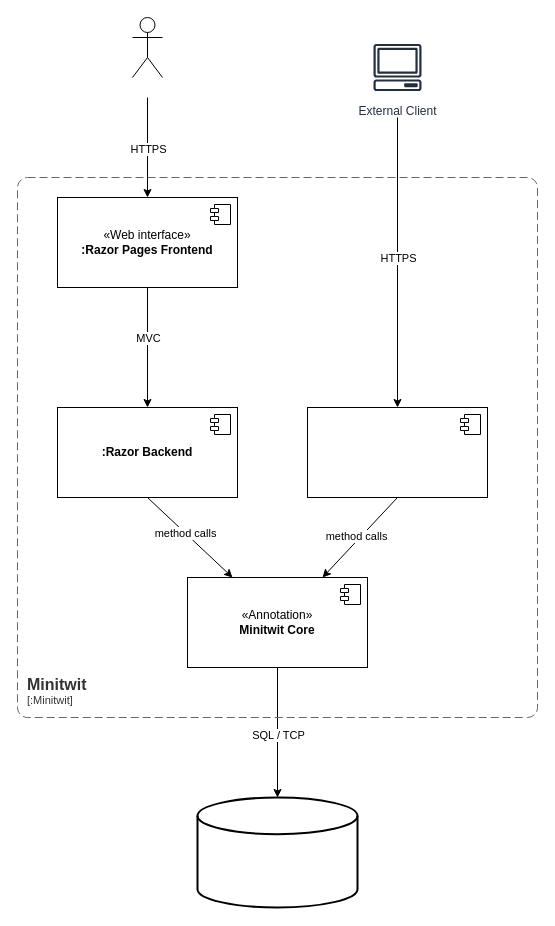
Image size: 555x926. Some labels were removed from this diagram. The centre of each missing label's shape, as x and y in pixels:
"Minitwit Database" goes at [277,852].
"User" goes at [147,47].
"« REST interface » :API" goes at [397,452].
